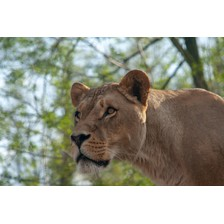lion: (64, 70, 224, 184)
